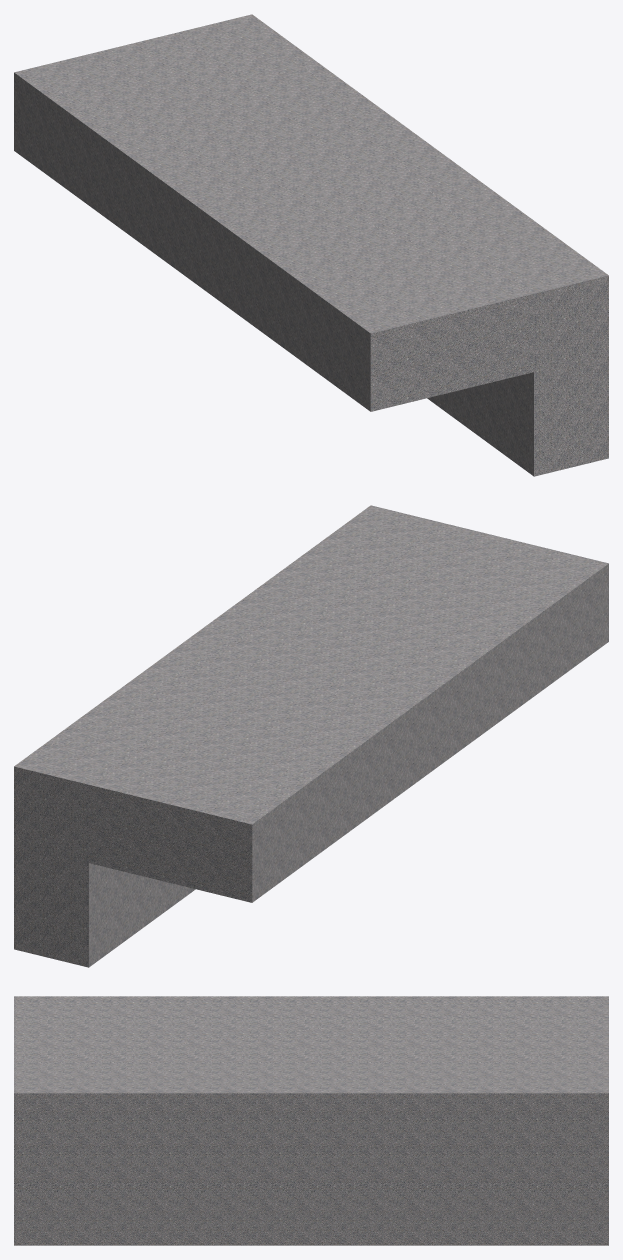
The picture shows the model from 3 angles, top to bottom: view 1: azimuth 30°, elevation 25°; view 2: azimuth 150°, elevation 25°; view 3: azimuth 270°, elevation 25°; orthographic projection. The views are drawn at different scales.
Visible parts, largest first — view 1: 0_1_3_3_0_3_1_3_3; view 2: 0_1_3_3_0_3_1_3_3; view 3: 0_1_3_3_0_3_1_3_3.
Boxes of the visible parts, left/top/right/bottom form: 0_1_3_3_0_3_1_3_3: left=14, top=14, right=608, bottom=476; 0_1_3_3_0_3_1_3_3: left=14, top=505, right=608, bottom=967; 0_1_3_3_0_3_1_3_3: left=14, top=996, right=608, bottom=1245.
Size of the model in its own units: 1.91 by 1.4 by 4.95.
2 materials, 2 textured.
